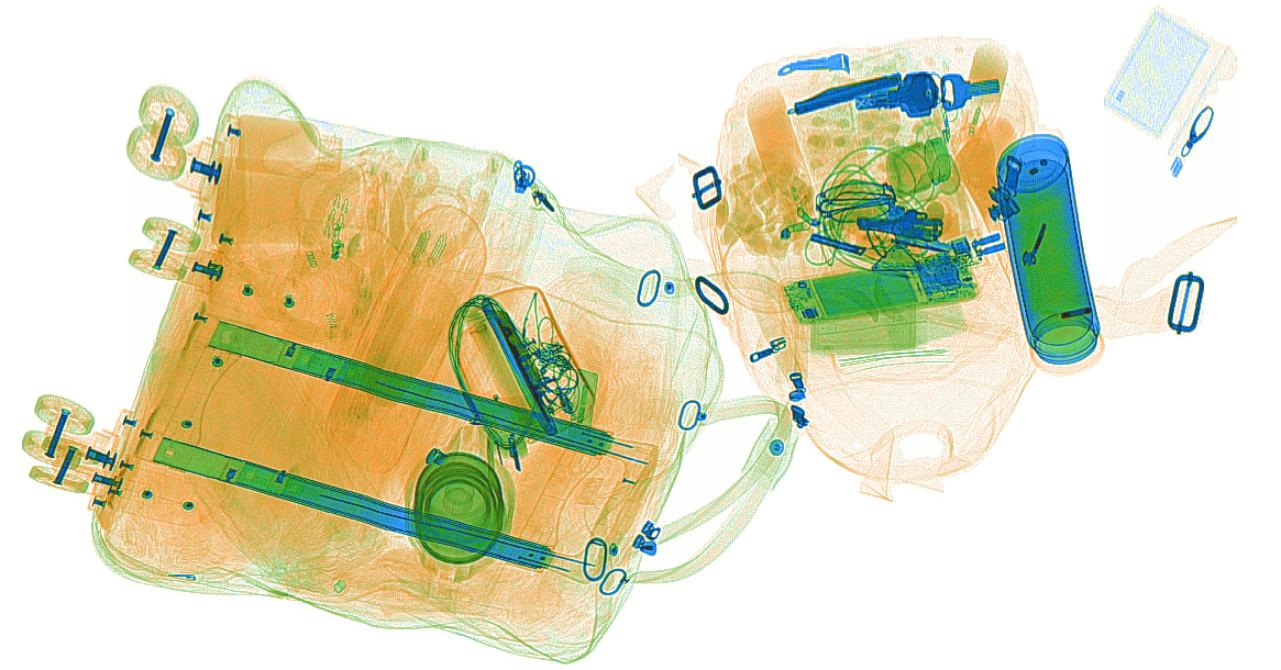knife: (786, 71, 903, 116)
plasticBottleWithaNozzle: (746, 84, 821, 249), (959, 42, 1008, 157)
